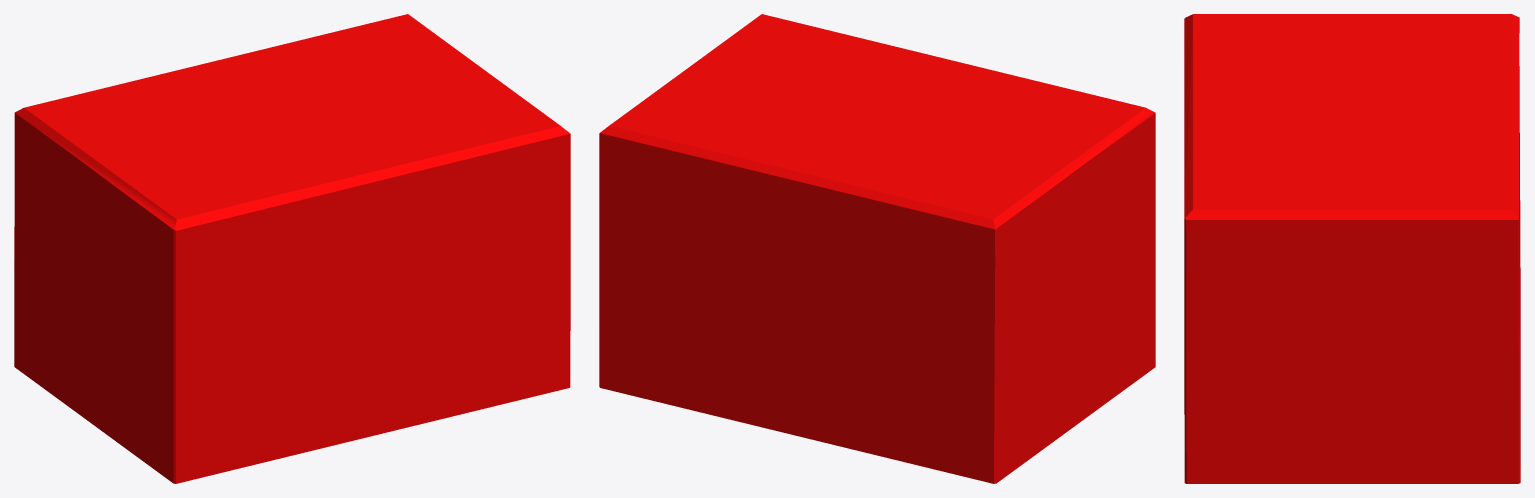
Rendered from Fp324_Ps_324_Shelf_3_Fp324_Ps_324_Shelf_3_6.obj.
3 views of the same model, side by side, from view 1: azimuth 30°, elevation 25°; view 2: azimuth 150°, elevation 25°; view 3: azimuth 270°, elevation 25° (orthographic). The views are drawn at different scales.
Parts seen in each view (by area): view 1: Fp324_Ps_324_Shelf_3; view 2: Fp324_Ps_324_Shelf_3; view 3: Fp324_Ps_324_Shelf_3.
Part boxes in pixels (bbox=[...]): Fp324_Ps_324_Shelf_3: bbox=[14, 14, 570, 483]; Fp324_Ps_324_Shelf_3: bbox=[599, 14, 1155, 483]; Fp324_Ps_324_Shelf_3: bbox=[1184, 14, 1520, 483].
Bounding box in the file's own units: 0.216 × 0.1353 × 0.1519.
